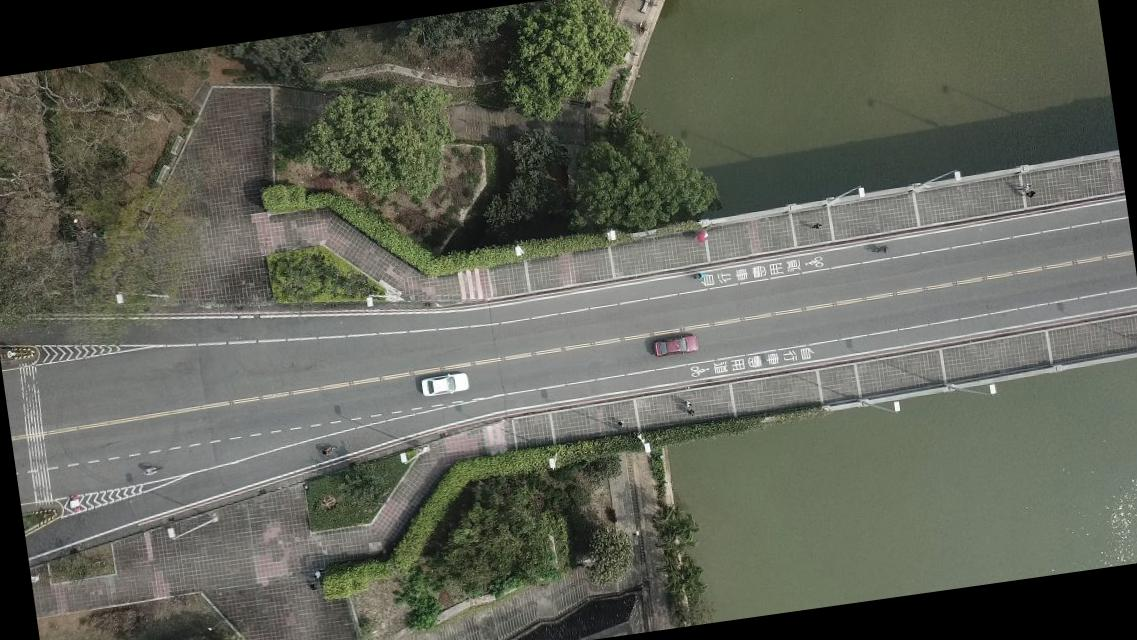vehicle: (421, 371, 469, 398), (652, 332, 698, 360)
